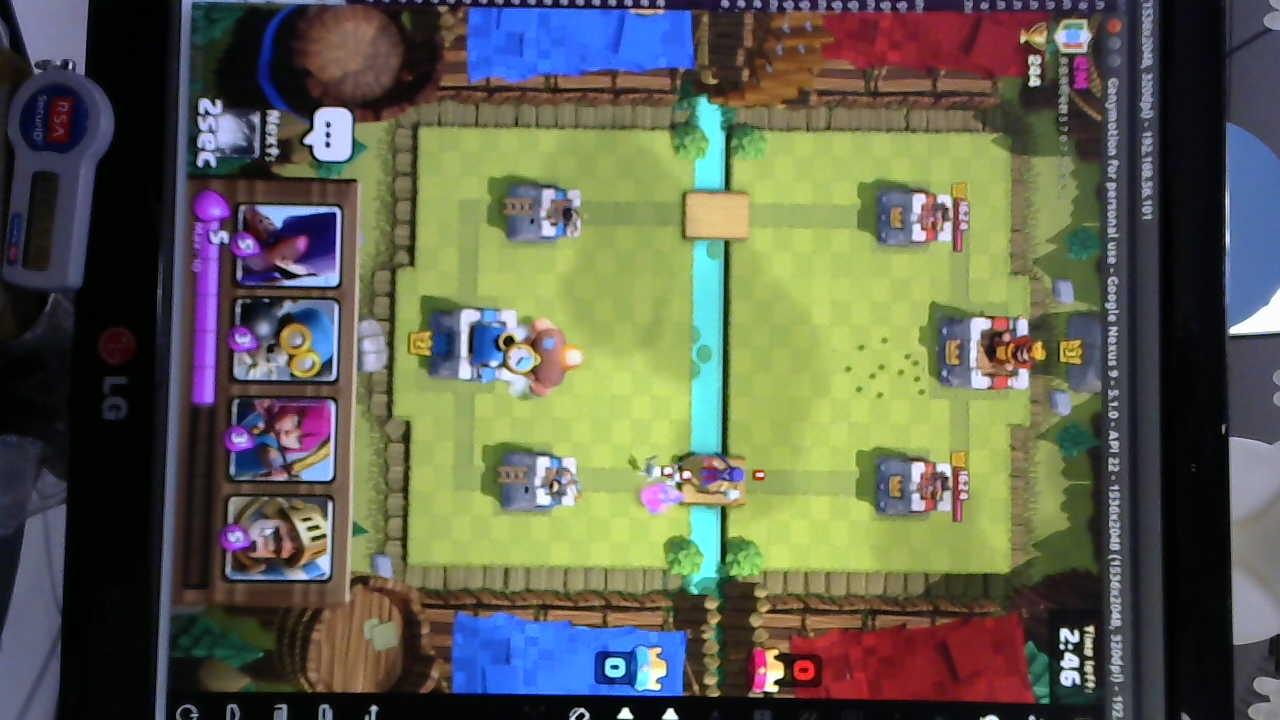giant: (509, 317, 577, 398)
